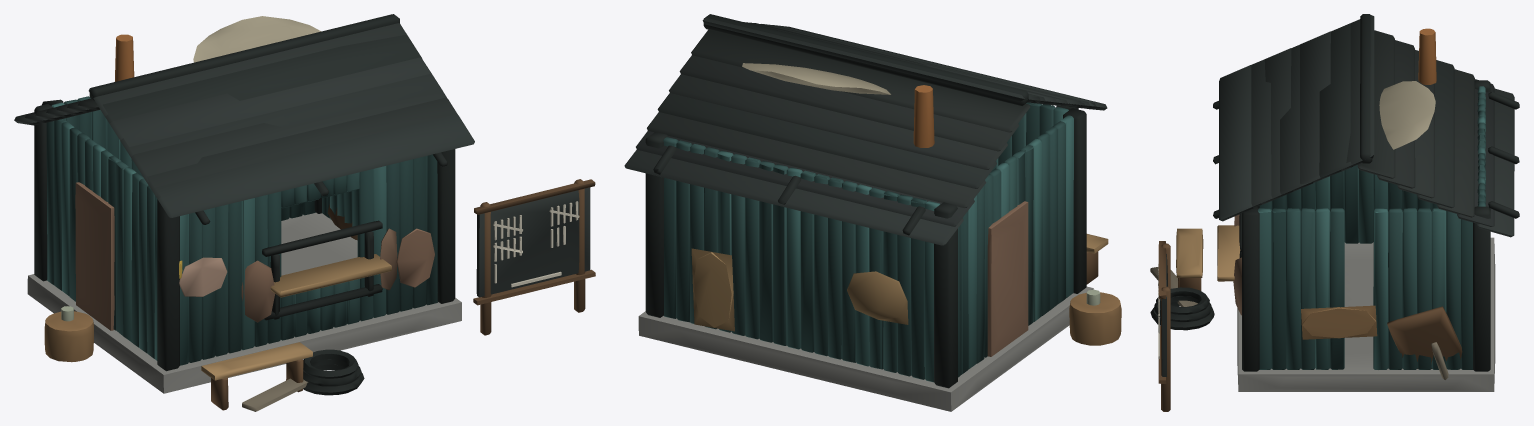
Rendered from billing_booth_b_lod1.glb.
The picture shows the model from 3 angles, left to right: view 1: azimuth 30°, elevation 25°; view 2: azimuth 150°, elevation 25°; view 3: azimuth 270°, elevation 25°; orthographic projection. The views are drawn at different scales.
Parts seen in each view (by area): view 1: Surface.001; view 2: Surface.001; view 3: Surface.001.
Part boxes in pixels (x1,y1,x2,y2): Surface.001: (14, 14, 595, 411); Surface.001: (624, 14, 1121, 411); Surface.001: (1150, 14, 1519, 411).
Bounding box in the file's own units: 7.35 × 4.1 × 5.44.
